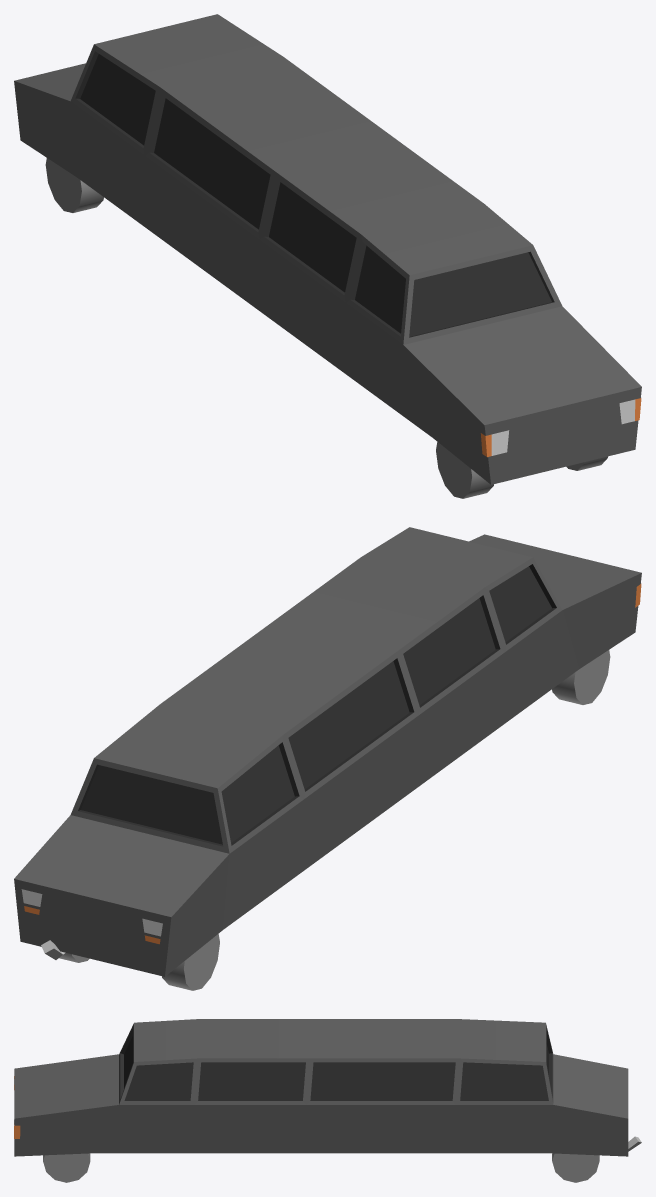
Rendered from limo_09.fbx.
3 renders of one model, top to bottom at view 1: azimuth 30°, elevation 25°; view 2: azimuth 150°, elevation 25°; view 3: azimuth 270°, elevation 25°, orthographic. The views are drawn at different scales.
Visible parts, largest first — view 1: limo_09; view 2: limo_09; view 3: limo_09.
Boxes of the visible parts, <box> form: limo_09: <box>14,14,641,498</box>; limo_09: <box>14,527,641,990</box>; limo_09: <box>14,1019,641,1182</box>.
Size of the model in its own units: 1.6 by 1.8 by 8.39.
